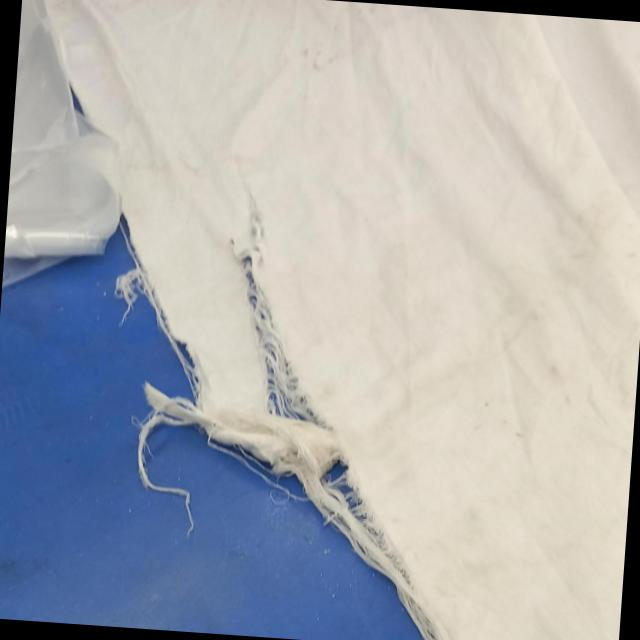cut: (218, 211, 328, 424), (301, 448, 434, 586), (96, 187, 172, 366), (39, 66, 112, 160)
